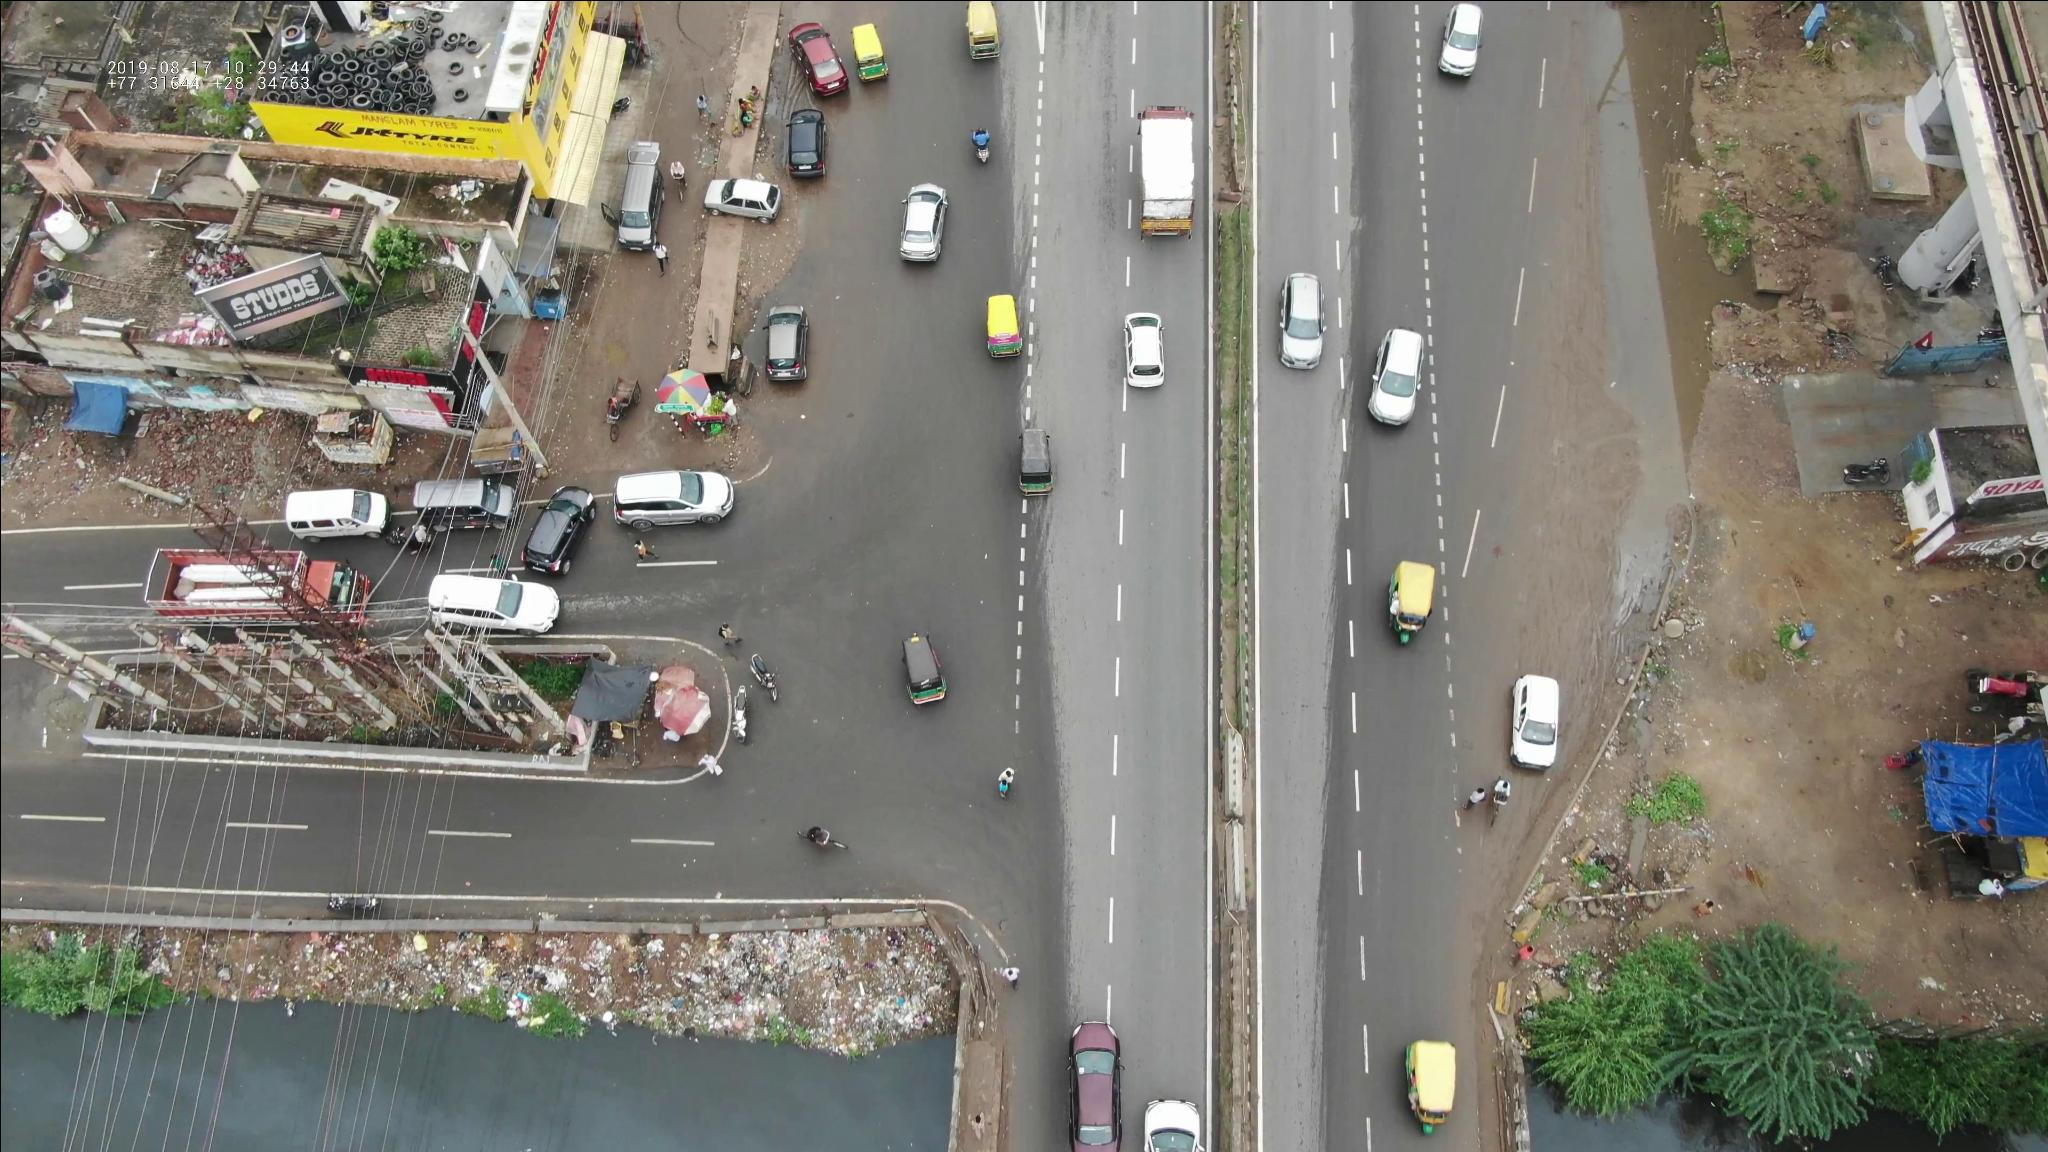Muddy_road: (1513, 378, 1622, 626)
Waterlogging: (1609, 1, 1715, 363)
